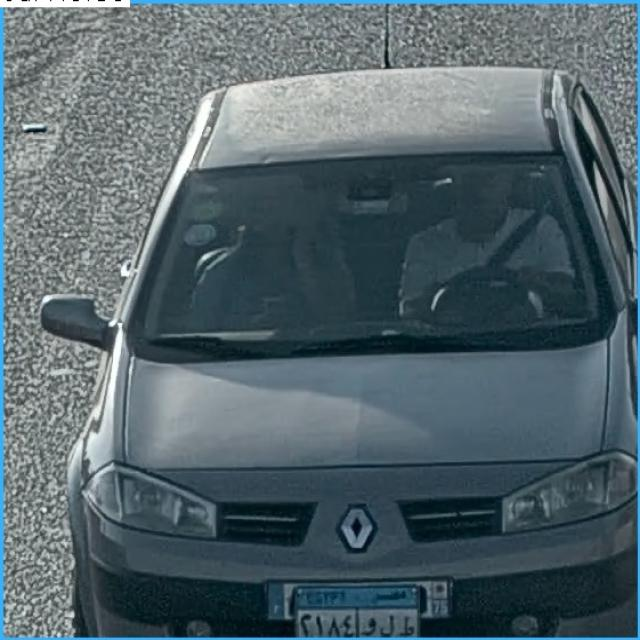windshield: (140, 162, 607, 346)
